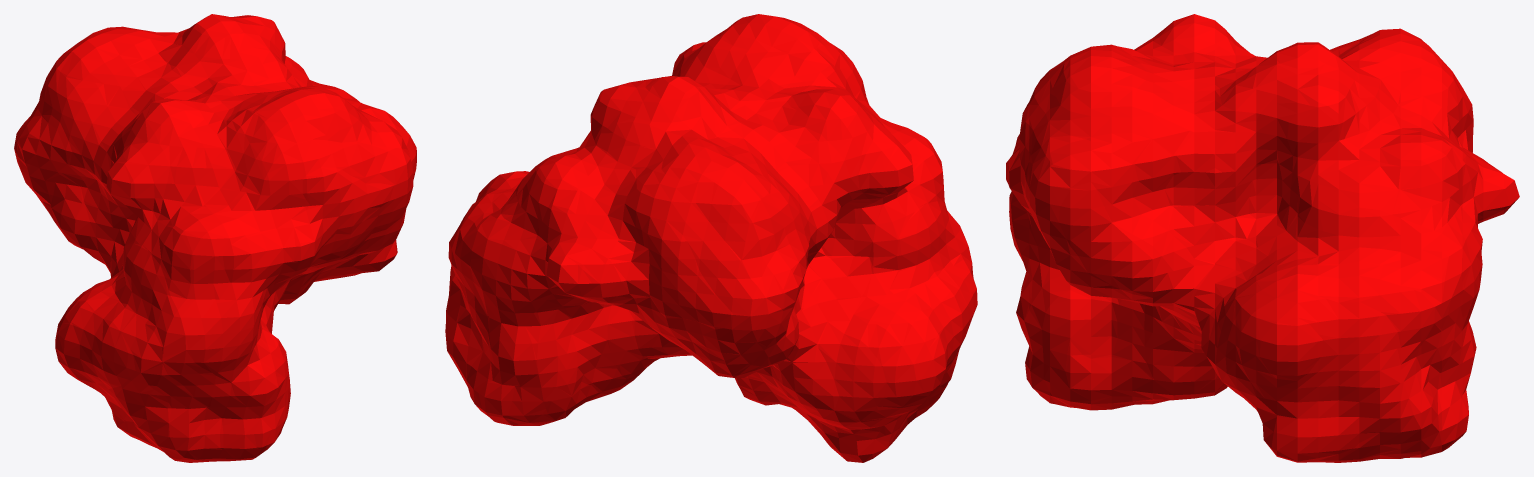
File: ubiI_coarse.dae
The picture shows the model from 3 angles, left to right: view 1: azimuth 30°, elevation 25°; view 2: azimuth 150°, elevation 25°; view 3: azimuth 270°, elevation 25°; orthographic projection. The views are drawn at different scales.
Visible parts, largest first — view 1: ubiI; view 2: ubiI; view 3: ubiI.
Boxes of the visible parts, x1,y1,x2,y2 form: ubiI: (14,14,416,462); ubiI: (445,14,977,462); ubiI: (1006,14,1519,462).
Bounding box in the file's own units: 77.82 × 67.38 × 76.3.
